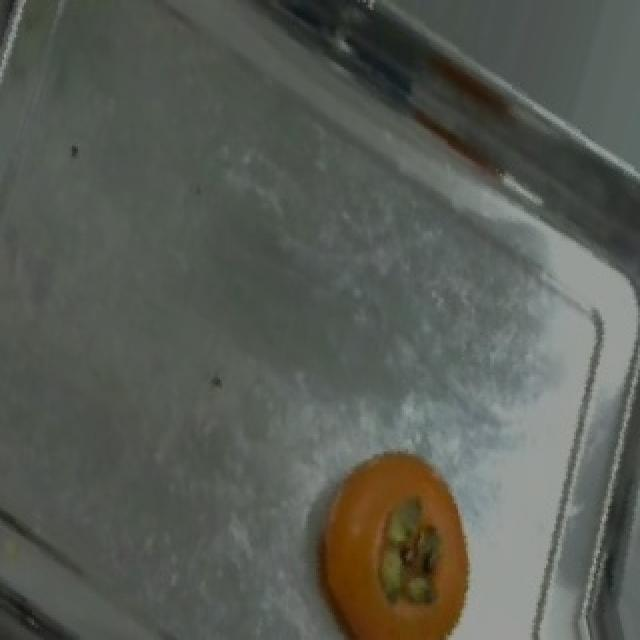Fruit: (294, 434, 494, 638)
